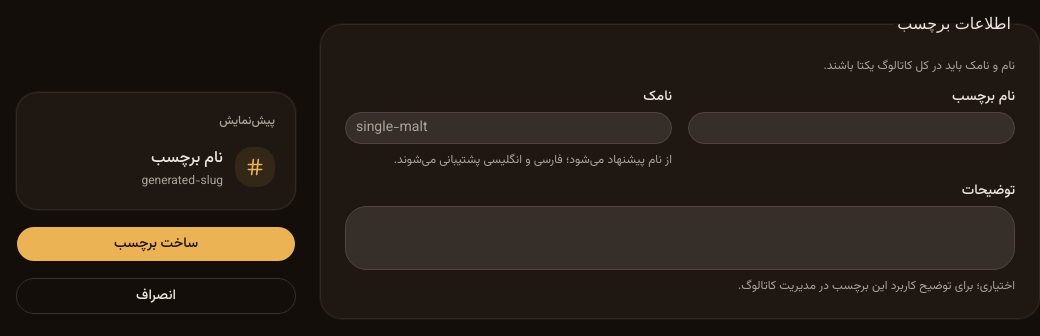
Test: TagForm › blocks malformed slugs and focuses the invalid field
The width and height of the screenshot is (1040, 336).
In the field labelled "نام برچسب": (852, 128) [688,112,1015,144], type "هدیه"
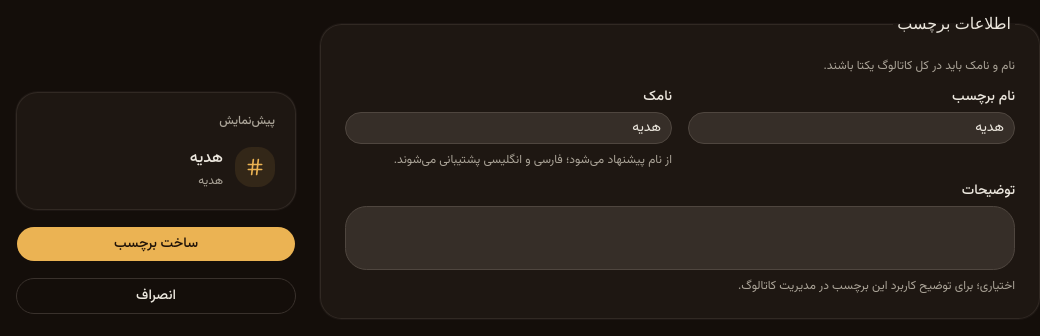
Replace the text in the field labelled "نامک" with "gift--set": (508, 128) [345,112,672,144]
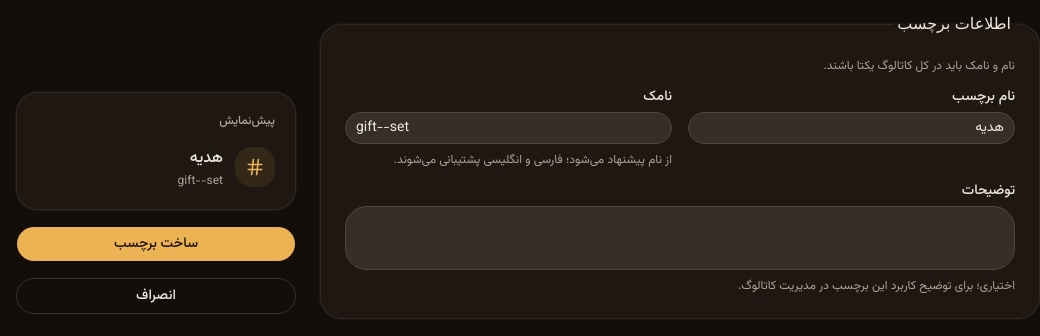
Click the button "ساخت برچسب": (156, 244) [16,226,296,262]
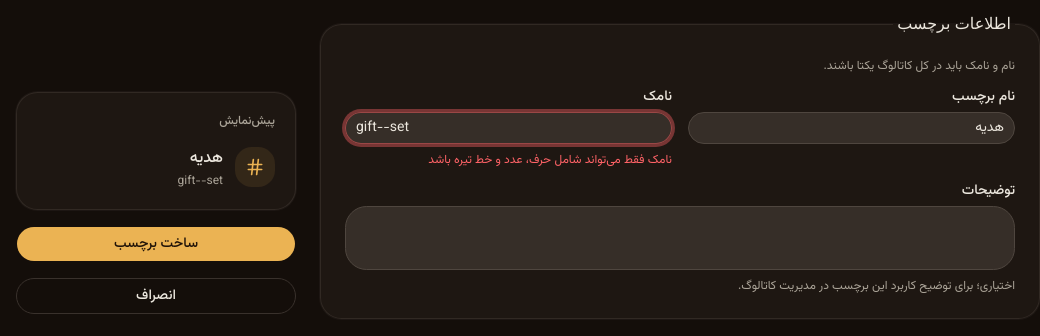
Expected: the text "نامک فقط می‌تواند شامل حرف، عدد و خط تیره باشد" is shown, [428,151,672,169]
